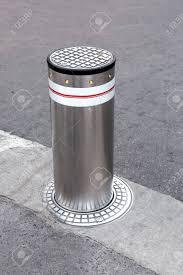Animal: (45, 58, 129, 212)
